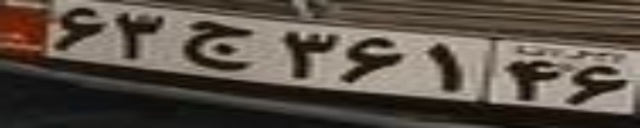1: (423, 41, 466, 91)
3: (109, 11, 170, 58), (283, 31, 338, 78)
4: (504, 57, 561, 101)
6: (338, 35, 404, 84), (566, 64, 627, 105), (54, 4, 101, 49)
jim: (183, 19, 258, 71)
